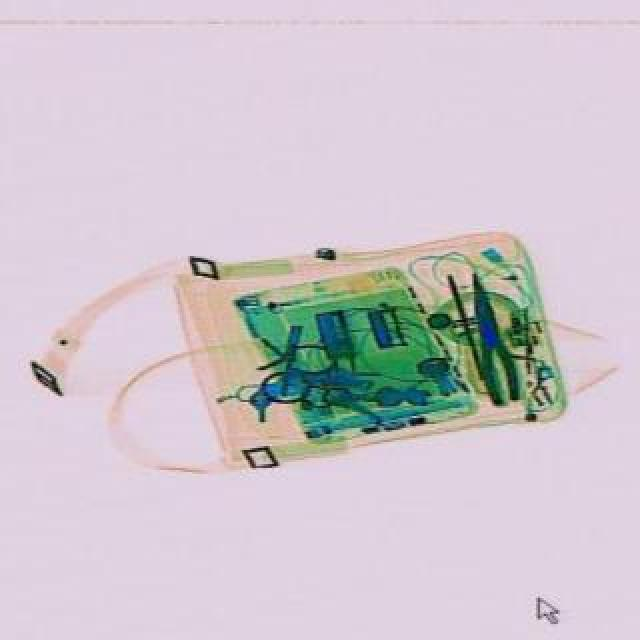wrench: (456, 270, 522, 406)
